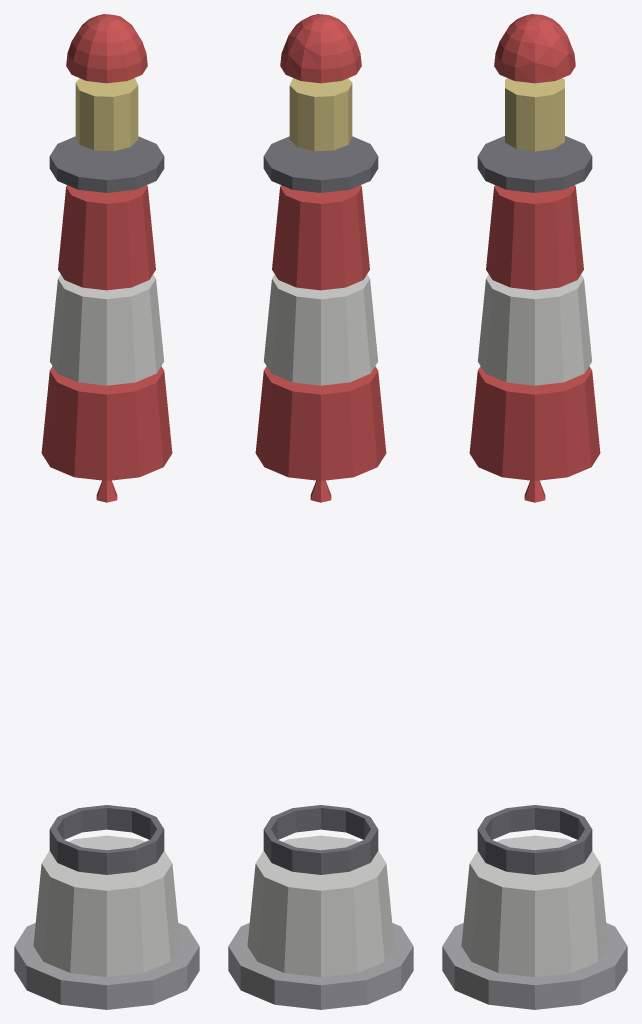
The picture shows the model from 3 angles, left to right: view 1: azimuth 30°, elevation 25°; view 2: azimuth 150°, elevation 25°; view 3: azimuth 270°, elevation 25°; orthographic projection.
Parts seen in each view (by area): view 1: part1, part2, part3, part4, part0, part6, part5, part8, part7; view 2: part1, part2, part3, part4, part0, part6, part5, part8, part7; view 3: part1, part2, part3, part4, part0, part6, part5, part8, part7.
Boxes of the visible parts, x1,y1,x2,y2 form: part1: (33, 835, 180, 977); part2: (41, 366, 172, 480); part3: (49, 274, 164, 385); part4: (58, 185, 155, 290); part0: (14, 923, 199, 1009); part6: (49, 805, 164, 874); part5: (49, 136, 164, 192); part8: (66, 14, 147, 83); part7: (75, 78, 138, 151); part1: (247, 835, 394, 977); part2: (255, 366, 386, 480); part3: (263, 274, 378, 385); part4: (272, 185, 369, 290); part0: (228, 923, 413, 1009); part6: (263, 805, 378, 874); part5: (263, 136, 378, 192); part8: (280, 14, 361, 83); part7: (289, 78, 352, 151); part1: (461, 835, 608, 977); part2: (469, 366, 600, 480); part3: (477, 274, 592, 385); part4: (486, 185, 583, 290); part0: (442, 923, 627, 1009); part6: (477, 805, 592, 874); part5: (477, 136, 592, 192); part8: (494, 14, 575, 83); part7: (505, 78, 564, 151).
Bounding box in the file's own units: 1.7 × 9.66 × 1.7.
